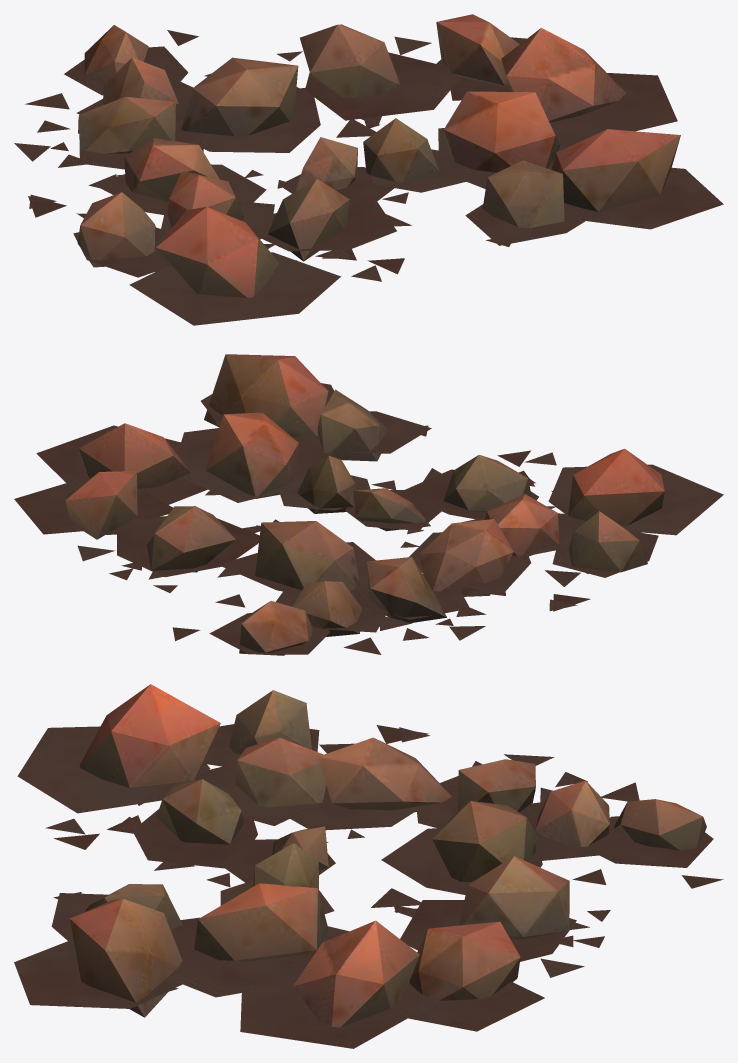
The model's file is copper-ore-rich.glb.
The picture shows the model from 3 angles, top to bottom: view 1: azimuth 30°, elevation 25°; view 2: azimuth 150°, elevation 25°; view 3: azimuth 270°, elevation 25°; orthographic projection. The views are drawn at different scales.
Visible parts, largest first — view 1: copper-ore-rich; view 2: copper-ore-rich; view 3: copper-ore-rich.
Boxes of the visible parts, box(x1,y1,x2,y2) form: copper-ore-rich: box(14, 14, 723, 325); copper-ore-rich: box(14, 354, 723, 655); copper-ore-rich: box(14, 684, 723, 1048).
Bounding box in the file's own units: 1.66 × 0.2168 × 1.52.
1 material, 1 textured.
